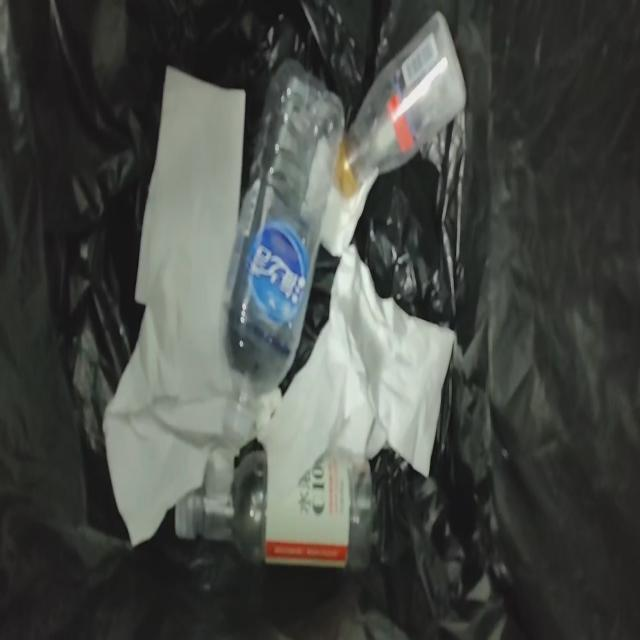bottle: (222, 60, 344, 443), (176, 444, 371, 569), (336, 13, 464, 198)
paper: (103, 69, 244, 545), (258, 246, 455, 497), (301, 136, 376, 256), (321, 170, 377, 256)
